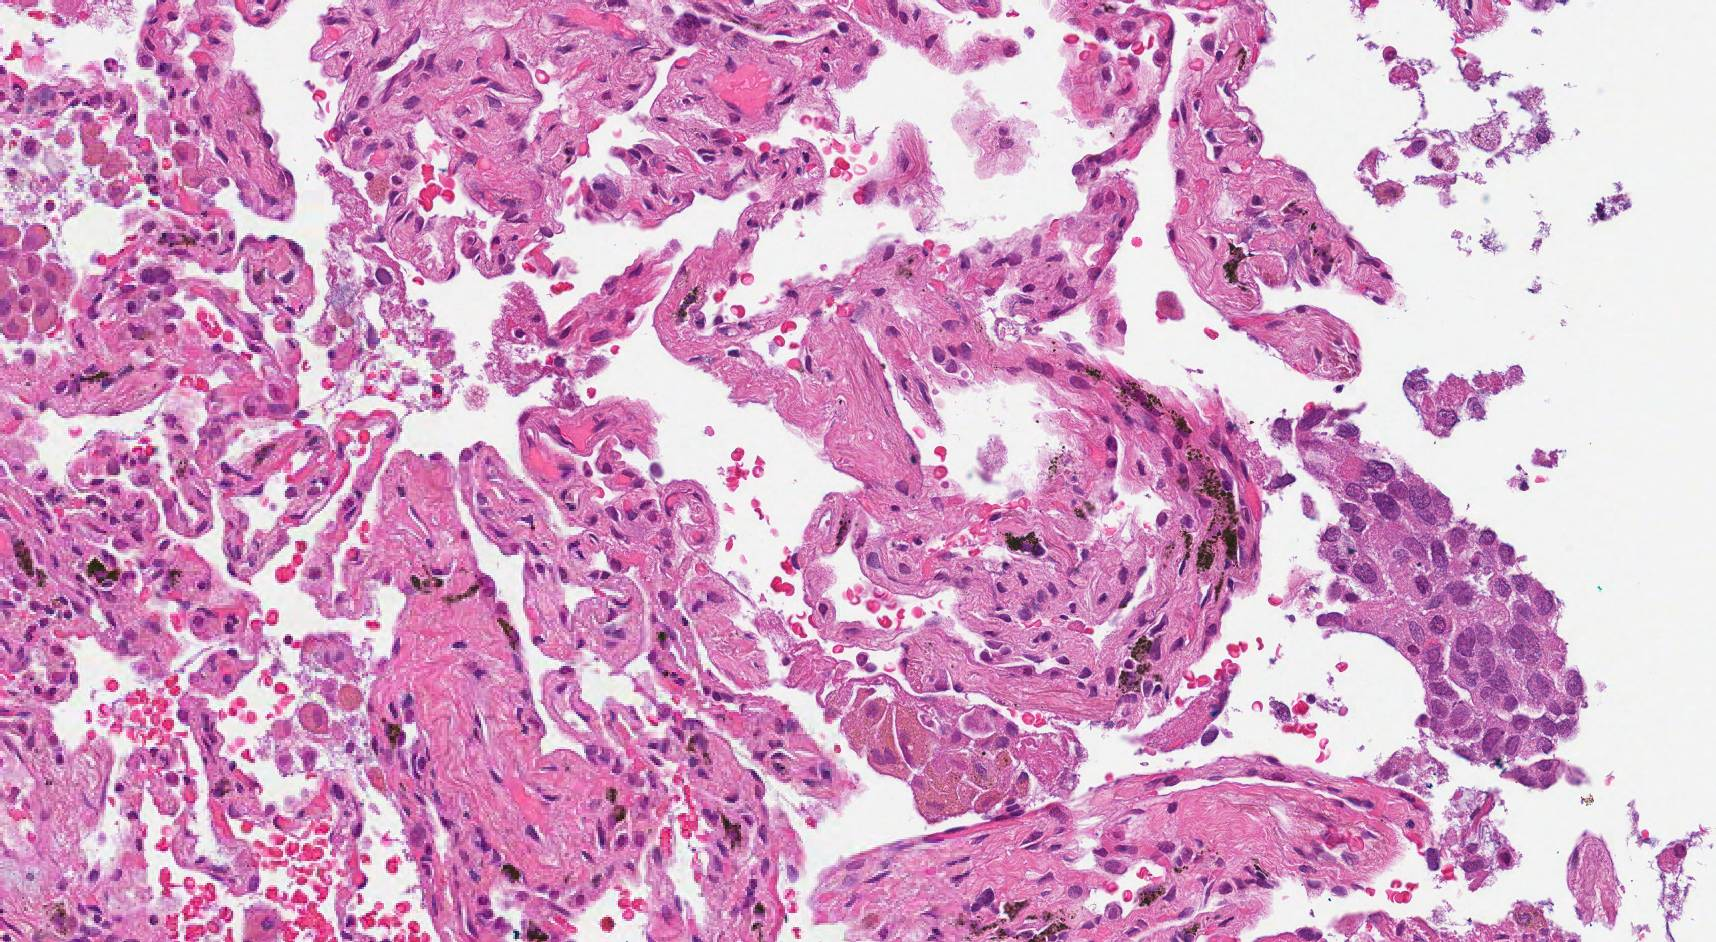stas: (1272, 404, 1587, 788), (1401, 363, 1487, 437)
